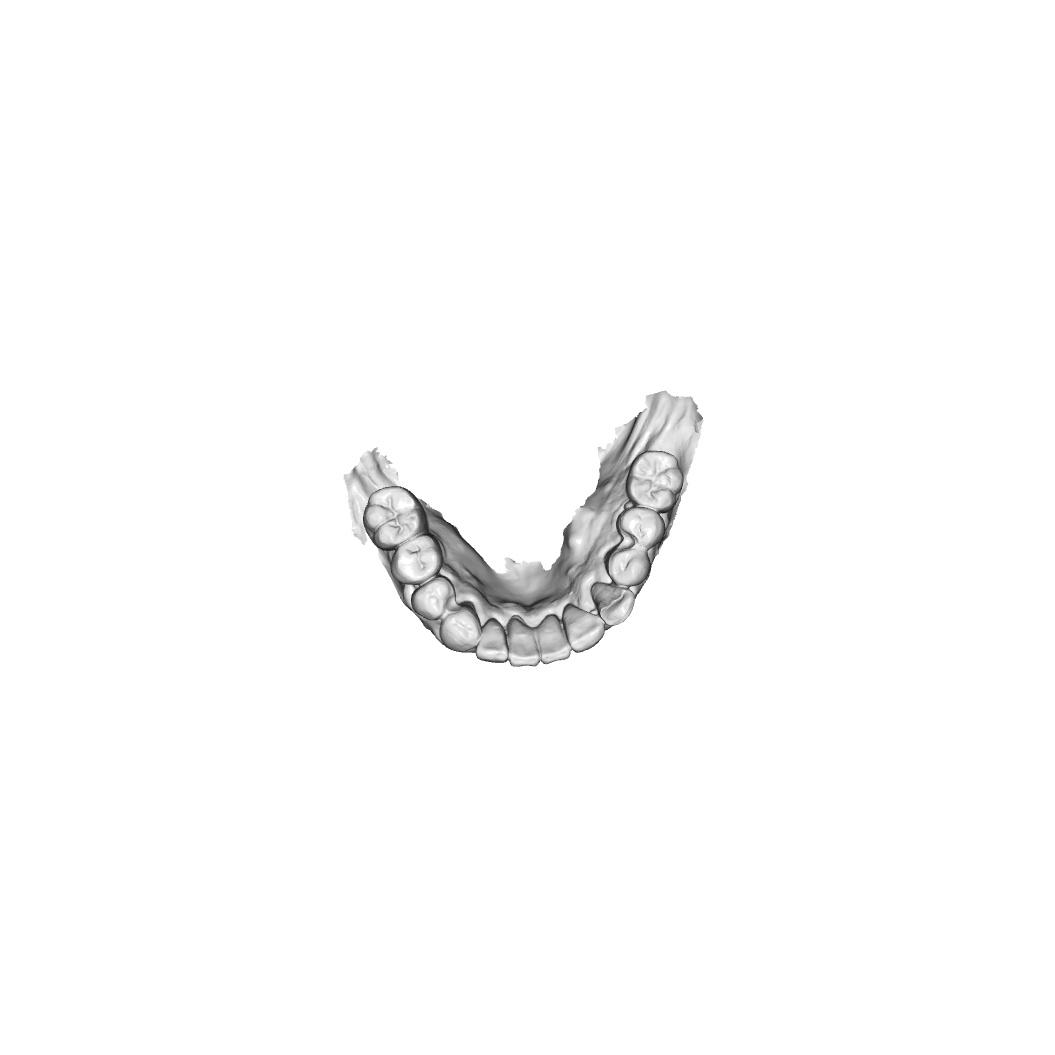canine: (588, 580, 637, 630), (437, 603, 483, 654)
incisor: (561, 602, 607, 655), (505, 615, 540, 669), (538, 612, 572, 665), (474, 615, 509, 666)
molar: (362, 485, 428, 552), (624, 448, 685, 514)
premolar: (390, 533, 445, 586), (613, 504, 668, 551), (409, 574, 456, 624), (602, 545, 652, 590)
